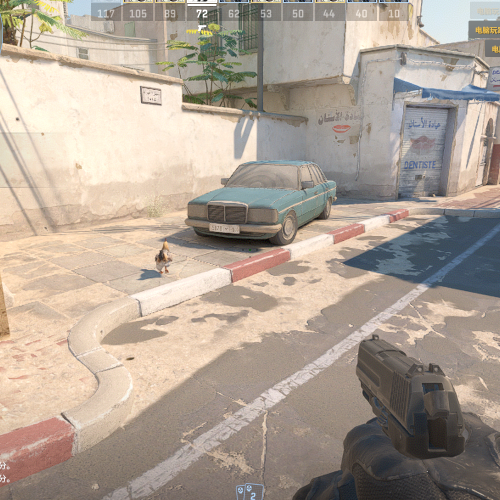chicken: (155, 238, 173, 275)
